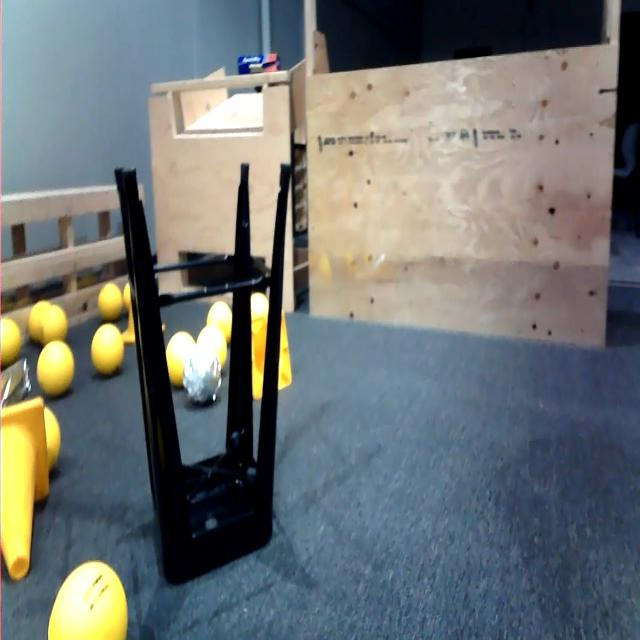fuel: (40, 554, 138, 640), (34, 337, 78, 394), (94, 315, 125, 378), (166, 325, 198, 385), (194, 319, 229, 368), (40, 395, 63, 469), (204, 294, 238, 338), (0, 313, 24, 367), (94, 273, 122, 318), (40, 301, 68, 341), (246, 290, 271, 327), (26, 299, 43, 339), (122, 276, 138, 313)
